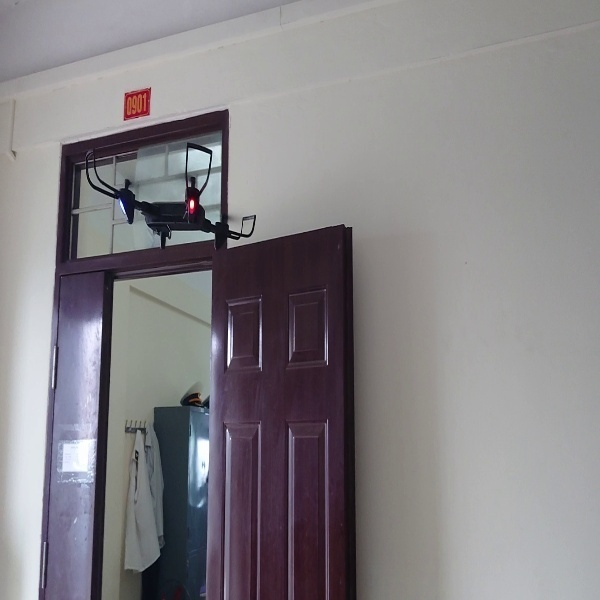drone: (82, 140, 259, 249)
